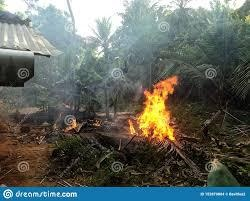fire: (127, 73, 180, 143)
